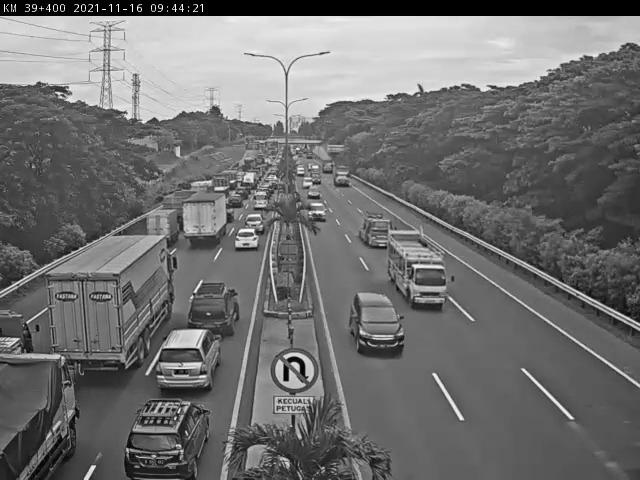car: (129, 391, 201, 473), (157, 326, 221, 391), (349, 292, 405, 358), (191, 276, 236, 333), (232, 227, 265, 252), (238, 215, 266, 229), (307, 197, 326, 215), (251, 195, 268, 211), (227, 193, 241, 211), (306, 183, 321, 195), (310, 170, 320, 184), (297, 165, 305, 176), (302, 176, 309, 183), (310, 164, 317, 169)
small truck: (390, 231, 451, 311), (360, 209, 396, 249), (141, 210, 177, 244), (321, 161, 334, 174)
truck-l-: (43, 237, 180, 373), (331, 165, 350, 189)
truck-m-: (0, 354, 77, 480), (181, 192, 228, 247)
